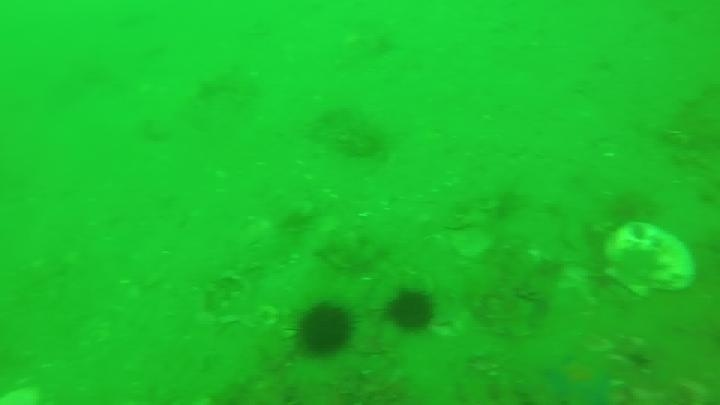echinus: (294, 301, 355, 357), (385, 288, 437, 334)
scallop: (600, 220, 697, 299)
starfish: (541, 354, 619, 404)
